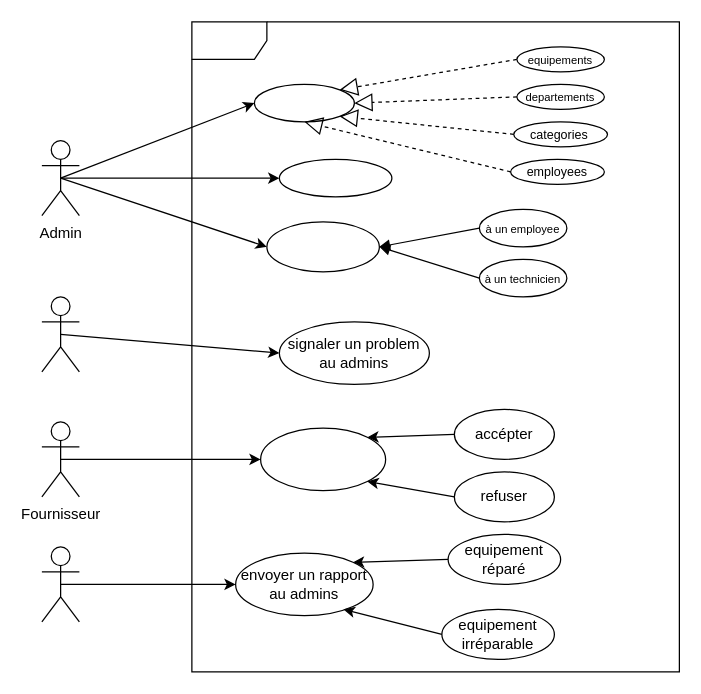
Some shapes in this 701 by 694 pixel diagram are drawn without their labels. Each missing label, with the box of its shape:
assigner un equipement: (266, 221, 379, 272)
demander un equipement: (278, 158, 392, 197)
employee: (41, 296, 79, 372)
Manages(CRUD): (253, 83, 354, 122)
repender au demandes: (259, 427, 386, 491)
technicien: (41, 546, 79, 622)
